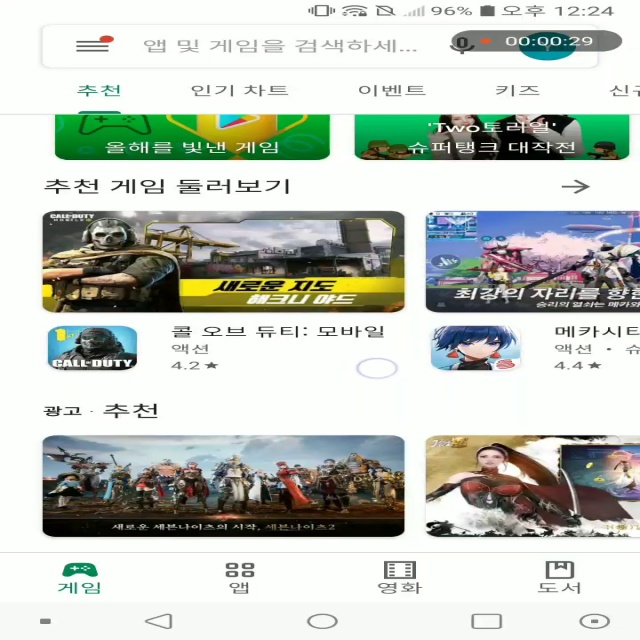Cursor: (355, 358, 400, 380)
